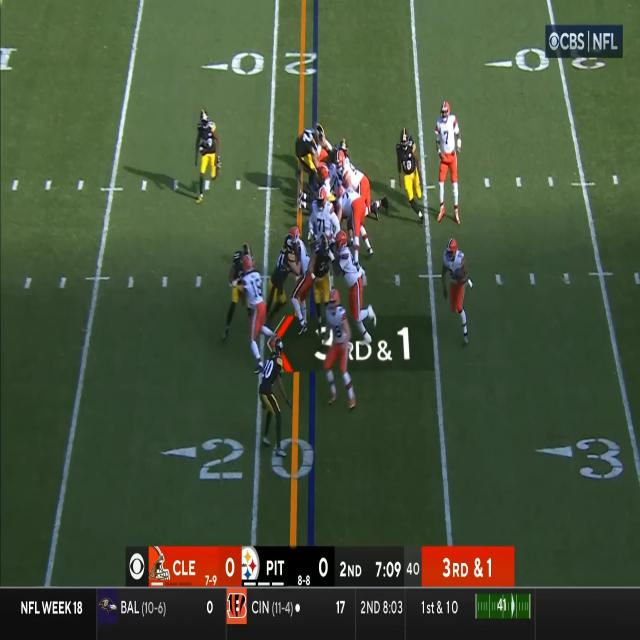football: (454, 267, 466, 282)
players: (332, 233, 378, 342), (240, 254, 278, 374), (320, 290, 356, 410), (260, 338, 296, 455), (334, 152, 390, 220), (434, 101, 464, 225), (262, 235, 300, 332), (222, 244, 258, 344), (440, 237, 472, 345), (396, 129, 426, 227), (191, 107, 221, 205), (297, 116, 333, 194), (340, 185, 374, 265), (289, 224, 310, 334), (308, 235, 332, 331), (308, 188, 340, 259)
